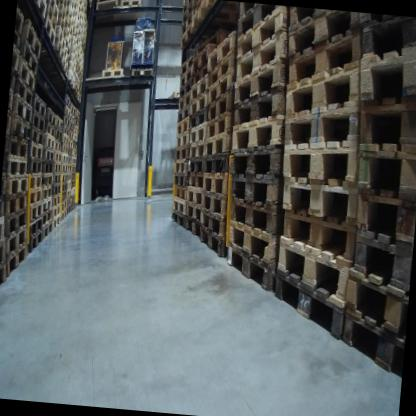pallet: (283, 21, 365, 100), (272, 235, 358, 308), (281, 54, 365, 126), (268, 273, 352, 343), (347, 224, 413, 306), (342, 263, 407, 343), (280, 136, 369, 194), (284, 97, 370, 156), (277, 207, 361, 266), (352, 127, 416, 202), (352, 37, 416, 108), (279, 176, 366, 228), (340, 310, 406, 378), (353, 184, 416, 244), (361, 85, 416, 153), (232, 4, 290, 67), (287, 8, 360, 57), (239, 27, 292, 90), (358, 15, 416, 72), (228, 86, 286, 140), (227, 240, 276, 303), (224, 193, 280, 248), (228, 137, 285, 191), (231, 58, 287, 112), (223, 217, 281, 268), (226, 109, 286, 157), (230, 166, 283, 213), (231, 4, 289, 44), (191, 0, 256, 34), (20, 11, 49, 62), (289, 7, 340, 35), (208, 50, 240, 93), (206, 32, 236, 76), (0, 223, 28, 263), (196, 223, 227, 259), (207, 89, 236, 126), (1, 244, 30, 281), (198, 204, 227, 240), (2, 205, 30, 242), (180, 25, 216, 53), (202, 129, 230, 163), (3, 189, 30, 224), (18, 35, 40, 76), (193, 40, 218, 75), (16, 57, 39, 95), (201, 170, 230, 200), (202, 152, 228, 183), (190, 71, 216, 102), (5, 138, 32, 167), (208, 73, 234, 102), (4, 172, 30, 201), (200, 192, 228, 217), (14, 92, 36, 123), (206, 114, 231, 141), (6, 154, 31, 181), (14, 80, 37, 108), (189, 116, 210, 145), (192, 61, 214, 88), (42, 13, 58, 50), (182, 198, 205, 223), (190, 104, 209, 134), (9, 117, 33, 140), (42, 2, 59, 34), (188, 91, 210, 115), (130, 67, 153, 89), (27, 229, 45, 255), (27, 0, 48, 22), (33, 91, 50, 118), (101, 64, 127, 81), (15, 3, 28, 37), (188, 137, 209, 158), (176, 80, 196, 102), (185, 171, 205, 192), (95, 0, 121, 16), (174, 145, 192, 168), (176, 117, 195, 138), (178, 54, 199, 73), (26, 167, 44, 189), (188, 156, 207, 176), (187, 185, 206, 205), (50, 57, 69, 77), (53, 36, 67, 63), (32, 105, 47, 130), (174, 168, 191, 190), (56, 4, 70, 30), (178, 11, 193, 35), (28, 141, 46, 161), (12, 42, 24, 71), (175, 106, 193, 125), (27, 188, 41, 212), (56, 17, 70, 41), (178, 90, 193, 112), (29, 155, 44, 176), (30, 215, 45, 236), (40, 218, 55, 239), (182, 61, 194, 86), (43, 121, 58, 141), (181, 3, 195, 24), (39, 194, 53, 215), (46, 106, 60, 127), (29, 125, 46, 142), (174, 158, 192, 174), (175, 133, 191, 151), (14, 28, 26, 52), (56, 30, 69, 52), (59, 0, 72, 22), (40, 208, 55, 227), (27, 202, 41, 222), (49, 213, 62, 234), (184, 220, 200, 237), (42, 134, 57, 152), (121, 0, 143, 12), (0, 241, 7, 278), (39, 185, 53, 203), (0, 261, 7, 296), (49, 0, 60, 22), (172, 212, 189, 226), (0, 215, 8, 243), (62, 49, 72, 71), (171, 199, 186, 213), (39, 172, 54, 186), (43, 147, 57, 162), (40, 161, 56, 173), (52, 200, 62, 219), (59, 140, 70, 156), (63, 104, 74, 120), (69, 0, 78, 19), (180, 0, 193, 13), (51, 181, 63, 195), (51, 192, 62, 207), (56, 113, 65, 131), (173, 189, 187, 200), (55, 127, 64, 143), (64, 95, 73, 111), (61, 0, 73, 12), (68, 10, 77, 26), (52, 160, 62, 174), (60, 132, 70, 146), (74, 105, 82, 122), (66, 18, 74, 35), (62, 114, 70, 130), (63, 41, 71, 57), (60, 162, 69, 176), (65, 29, 72, 47), (171, 88, 181, 100), (95, 0, 119, 5), (52, 174, 61, 187), (67, 110, 76, 123), (54, 149, 61, 165), (53, 139, 63, 150), (73, 115, 81, 128), (61, 199, 67, 215), (69, 103, 77, 115), (73, 125, 81, 137), (63, 206, 72, 216), (61, 209, 68, 221), (68, 119, 75, 131), (48, 0, 62, 6), (64, 164, 72, 174), (70, 0, 78, 10), (61, 154, 68, 165), (60, 183, 68, 192), (67, 143, 73, 155), (65, 197, 71, 209), (70, 194, 76, 206), (69, 173, 77, 182), (63, 126, 70, 136), (66, 180, 73, 190), (65, 190, 72, 200), (62, 193, 67, 206), (68, 129, 74, 139), (66, 156, 72, 166), (66, 174, 72, 184), (74, 140, 79, 152), (61, 176, 68, 184), (72, 157, 77, 167), (70, 203, 77, 210), (72, 151, 78, 158), (73, 135, 79, 142), (73, 187, 77, 197), (71, 167, 76, 175), (70, 181, 76, 187), (70, 141, 74, 148)
